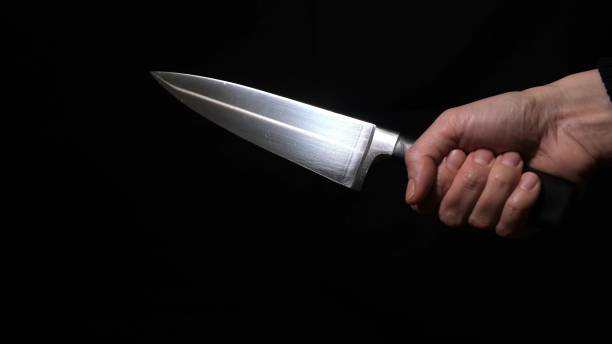knife: (146, 69, 582, 232)
